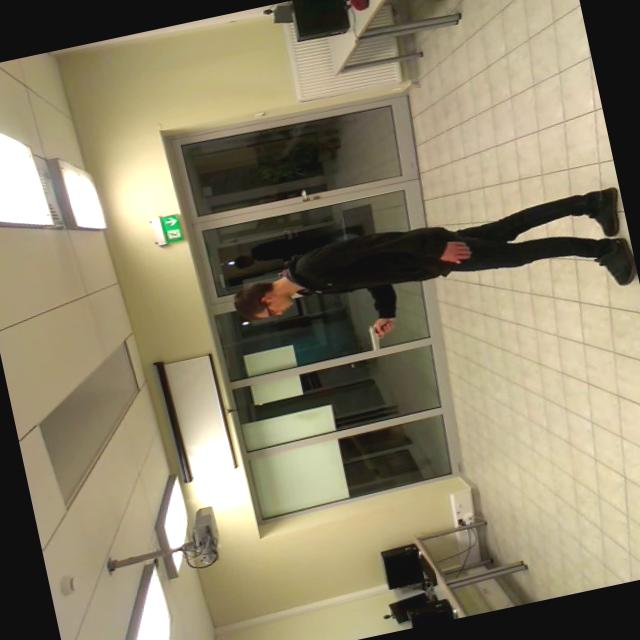handgun: (356, 313, 410, 364)
